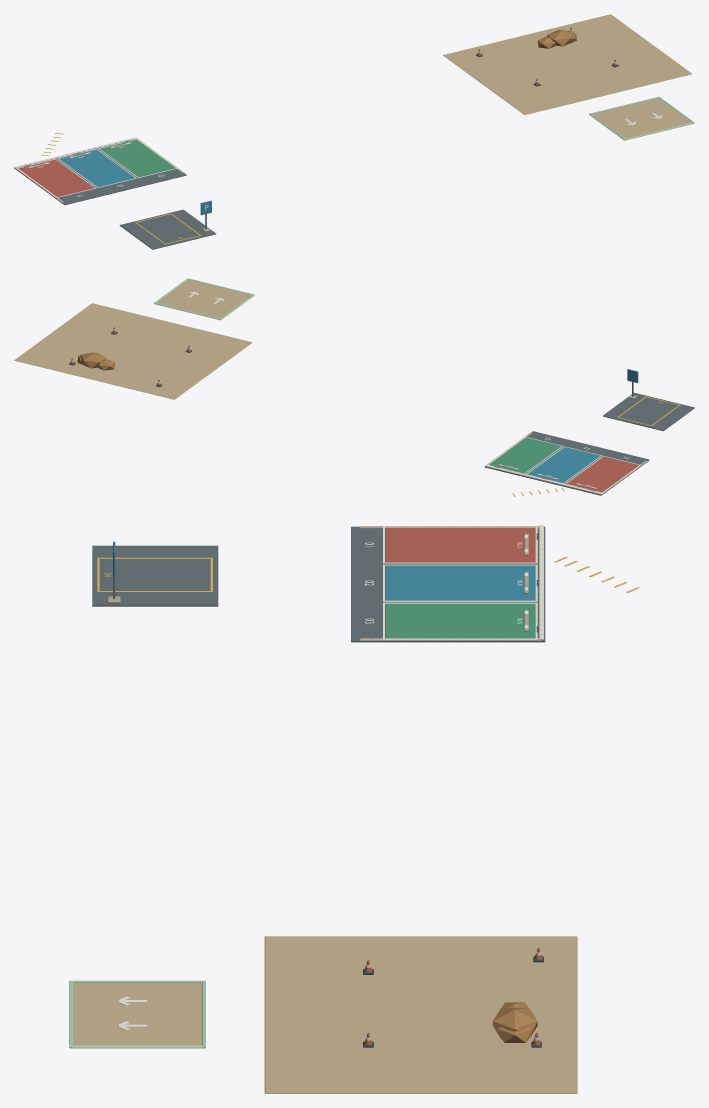
Rendered from expansion-rect.glb.
3 renders of one model, top to bottom at view 1: azimuth 30°, elevation 25°; view 2: azimuth 150°, elevation 25°; view 3: azimuth 270°, elevation 25°, orthographic. The views are drawn at different scales.
Visible parts, largest first — view 1: ExpansionGround, UnloadPad; view 2: ExpansionGround, UnloadPad; view 3: ExpansionGround, UnloadPad.
Part boxes in pixels (left/top/right/bottom): ExpansionGround: left=14, top=14, right=692, bottom=249; UnloadPad: left=589, top=96, right=694, bottom=140; ExpansionGround: left=14, top=303, right=694, bottom=496; UnloadPad: left=153, top=278, right=254, bottom=320; ExpansionGround: left=92, top=525, right=639, bottom=1093; UnloadPad: left=69, top=980, right=205, bottom=1048.
Bounding box in the file's own units: 68.43 × 3.48 × 29.17.
